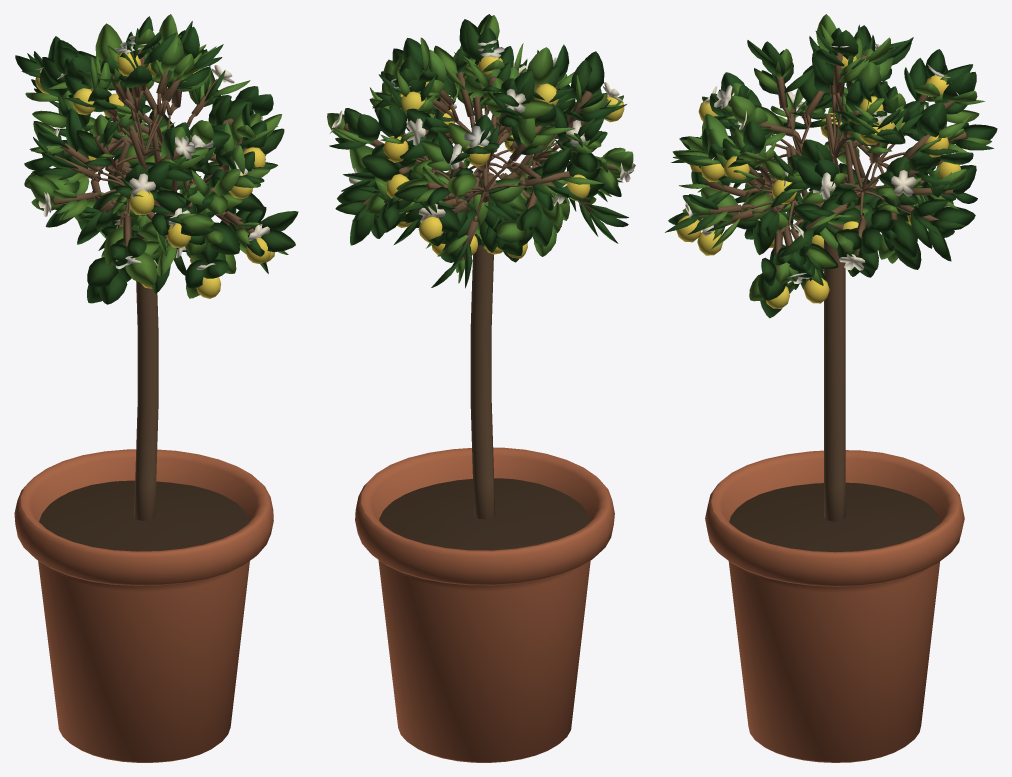
Rendered from pot_citrus.glb.
3 renders of one model, left to right at view 1: azimuth 30°, elevation 25°; view 2: azimuth 150°, elevation 25°; view 3: azimuth 270°, elevation 25°, orthographic.
Visible parts, largest first — view 1: Sammel Putz, Sammel Pflanze, Sammel Holz; view 2: Sammel Putz, Sammel Pflanze, Sammel Holz; view 3: Sammel Putz, Sammel Pflanze, Sammel Holz.
Part boxes in pixels (x1,y1,x2,y2): Sammel Putz: (14,449,273,762); Sammel Pflanze: (15,14,298,304); Sammel Holz: (53,49,254,520); Sammel Putz: (355,447,614,762); Sammel Pflanze: (327,14,635,288); Sammel Holz: (343,72,619,519); Sammel Putz: (705,450,964,762); Sammel Pflanze: (665,14,997,318); Sammel Holz: (697,52,967,521).
Size of the model in its own units: 0.5594 by 1.43 by 0.6146.
